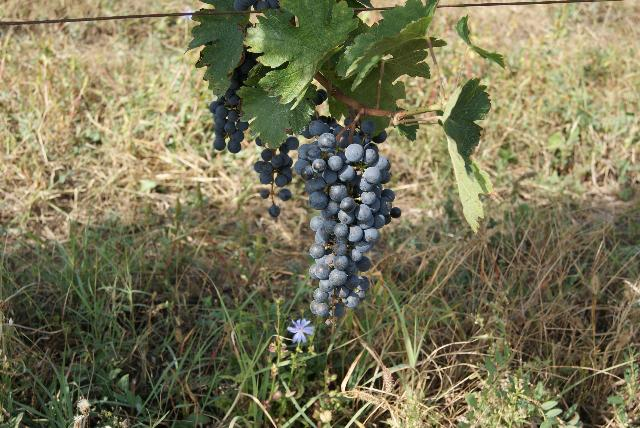grapes: (295, 120, 400, 319)
